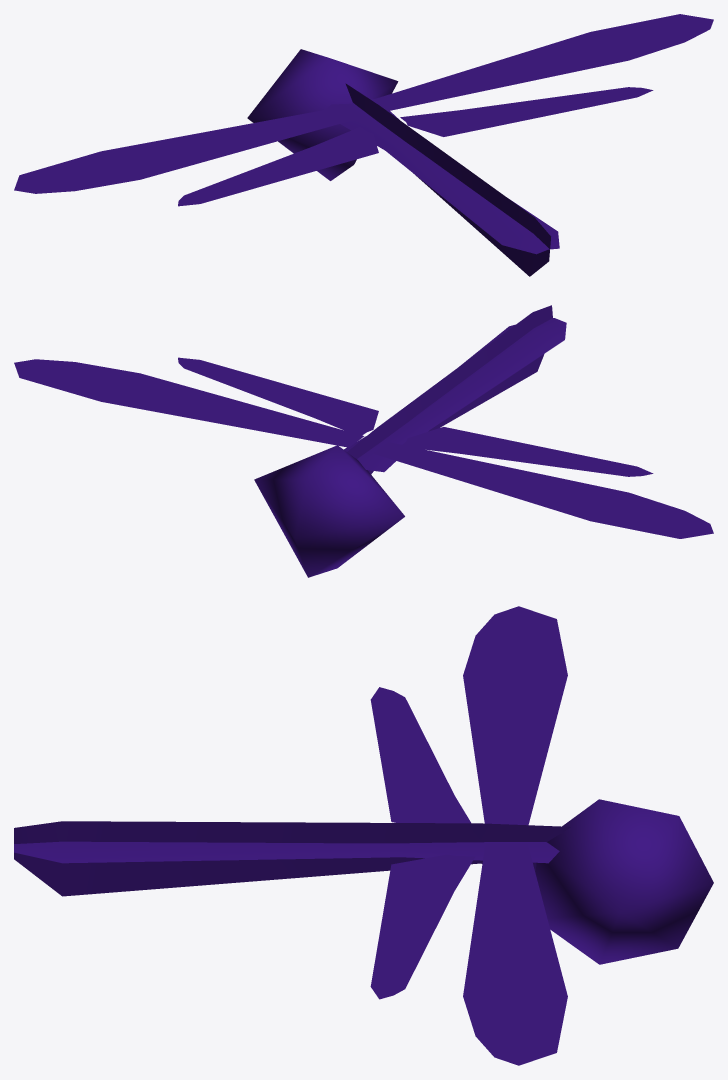
File: DragonflyAll.fbx
The picture shows the model from 3 angles, top to bottom: view 1: azimuth 30°, elevation 25°; view 2: azimuth 150°, elevation 25°; view 3: azimuth 270°, elevation 25°; orthographic projection. The views are drawn at different scales.
Parts seen in each view (by area): view 1: Dragonfly_wings; view 2: Dragonfly_wings; view 3: Dragonfly_wings.
Part boxes in pixels (x1=…): Dragonfly_wings: x1=14, y1=14, x2=713, y2=276; Dragonfly_wings: x1=14, y1=305, x2=713, y2=577; Dragonfly_wings: x1=14, y1=606, x2=713, y2=1065.
Size of the model in its own units: 63.61 by 10.69 by 40.95.
